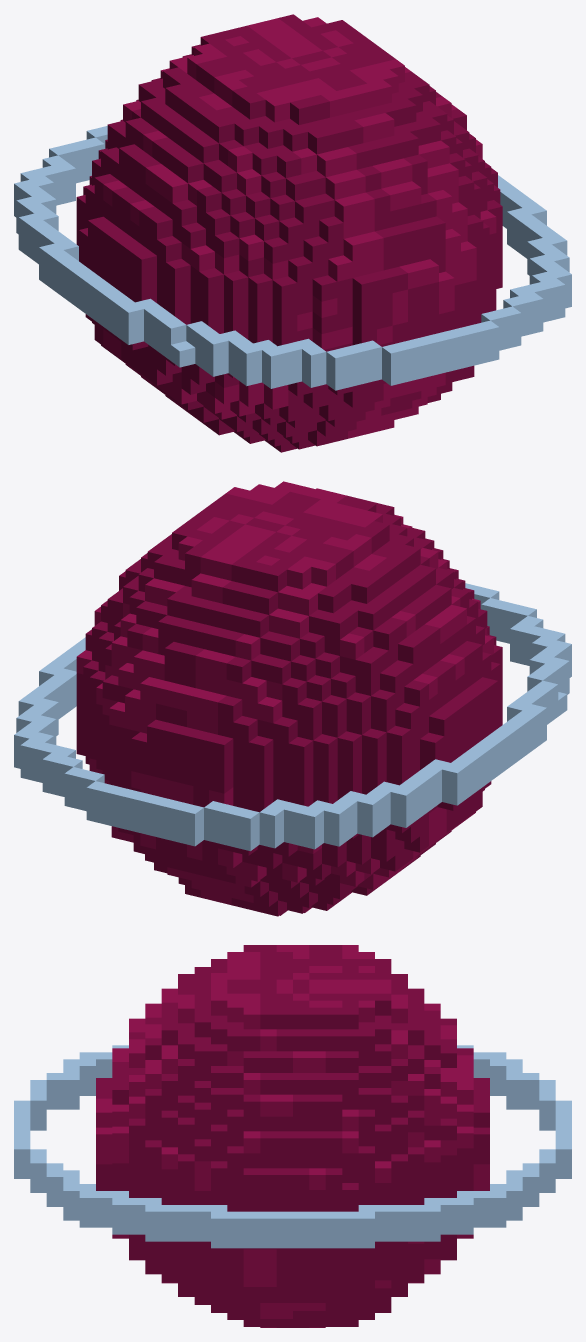
File: planet_2.obj
3 views of the same model, one above another, from view 1: azimuth 30°, elevation 25°; view 2: azimuth 150°, elevation 25°; view 3: azimuth 270°, elevation 25° (orthographic). The views are drawn at different scales.
Bounding box in the file's own units: 27 × 22 × 34.
1 material, 1 textured.
